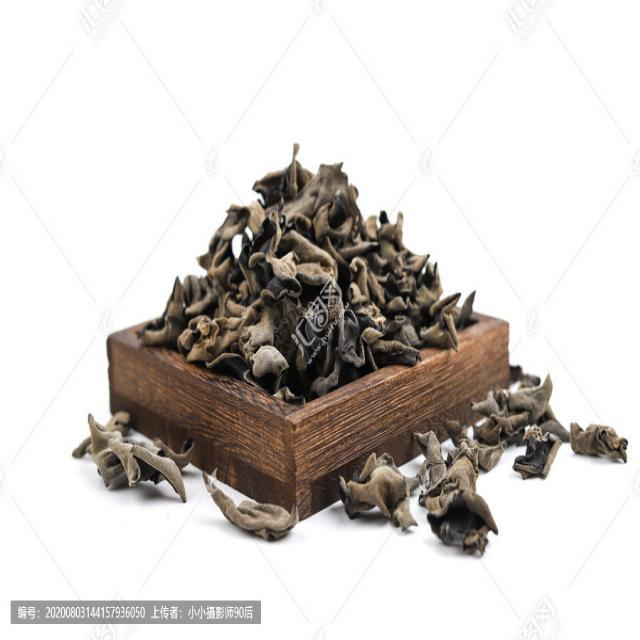Auricularia auricula: (141, 159, 480, 392), (417, 366, 627, 554), (72, 404, 195, 504), (203, 467, 298, 543), (341, 446, 416, 534)
